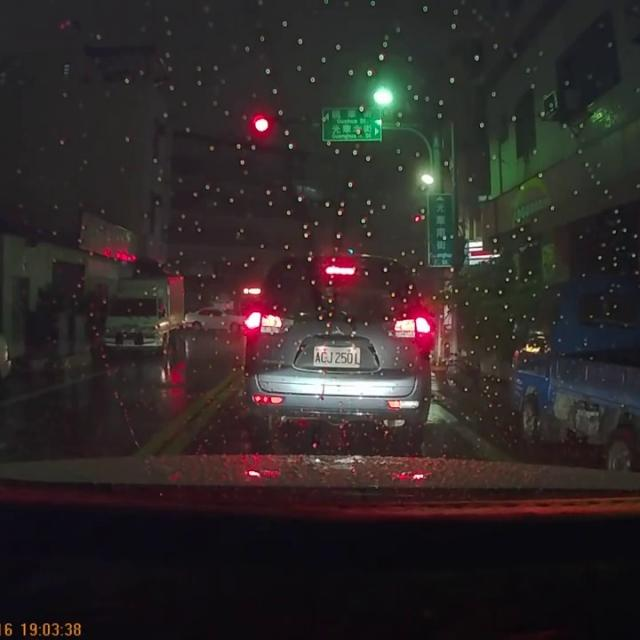Car: (239, 247, 433, 452), (182, 301, 248, 334)
